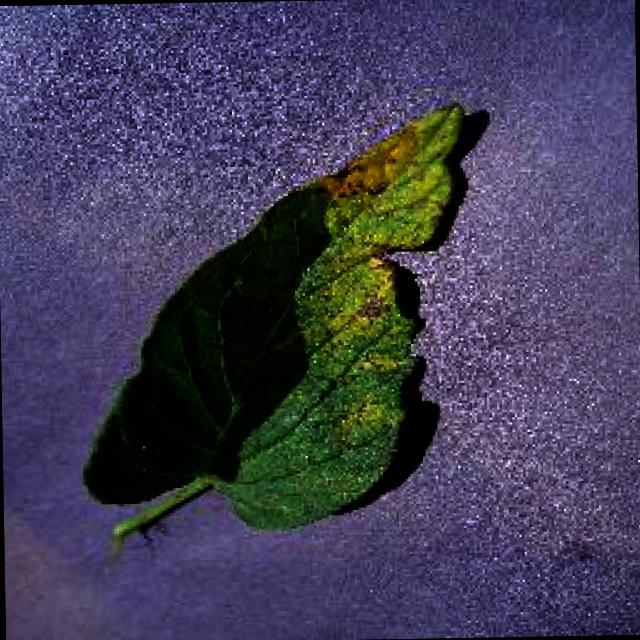Tomato Septoria spot leaf: (73, 101, 472, 529)
